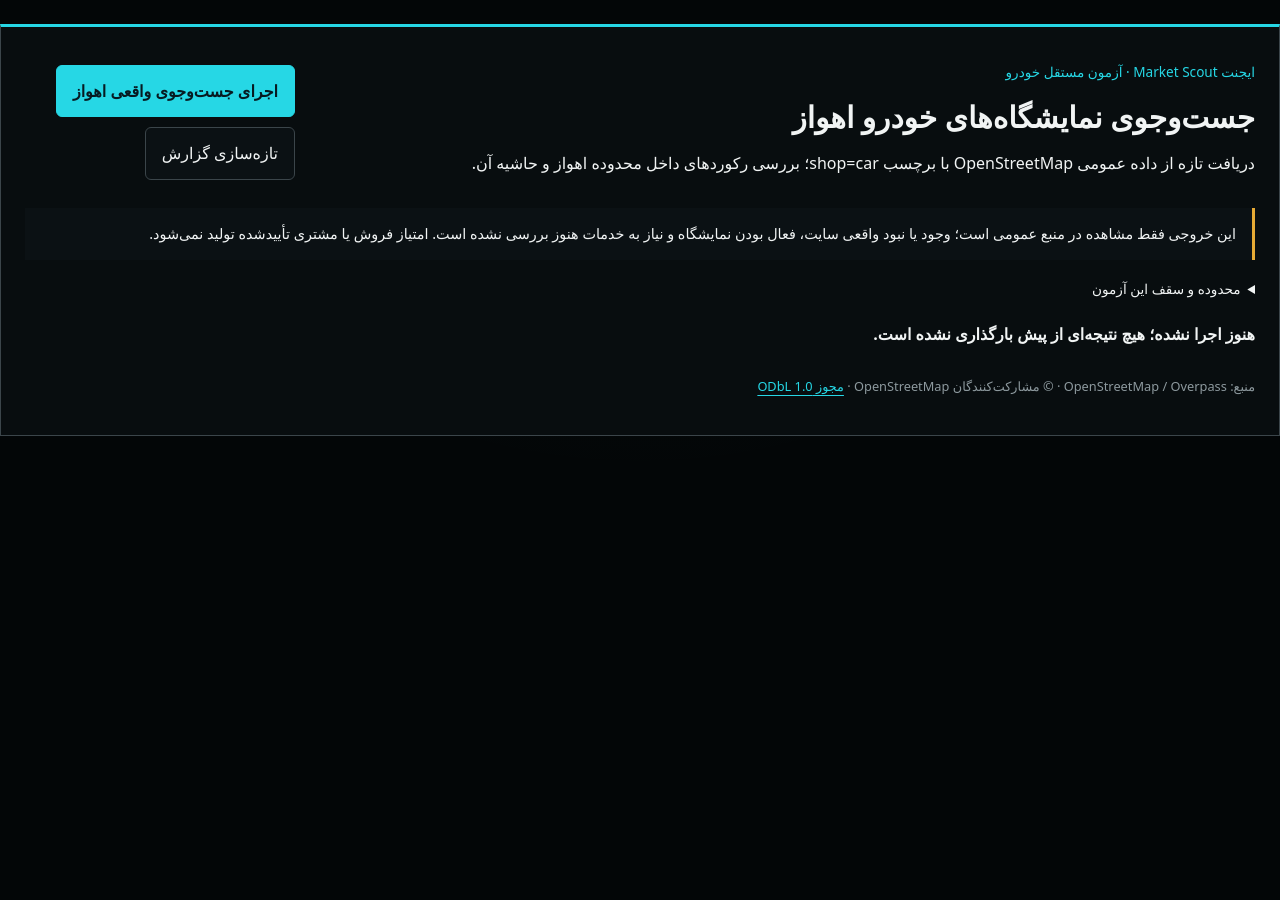
Test case: Ahvaz scout visible app control › only reads on mount and executes the fixed source task on an explicit click
Click the button "اجرای جست‌وجوی واقعی اهواز".
click(175, 91)  # box [56, 65, 295, 117]
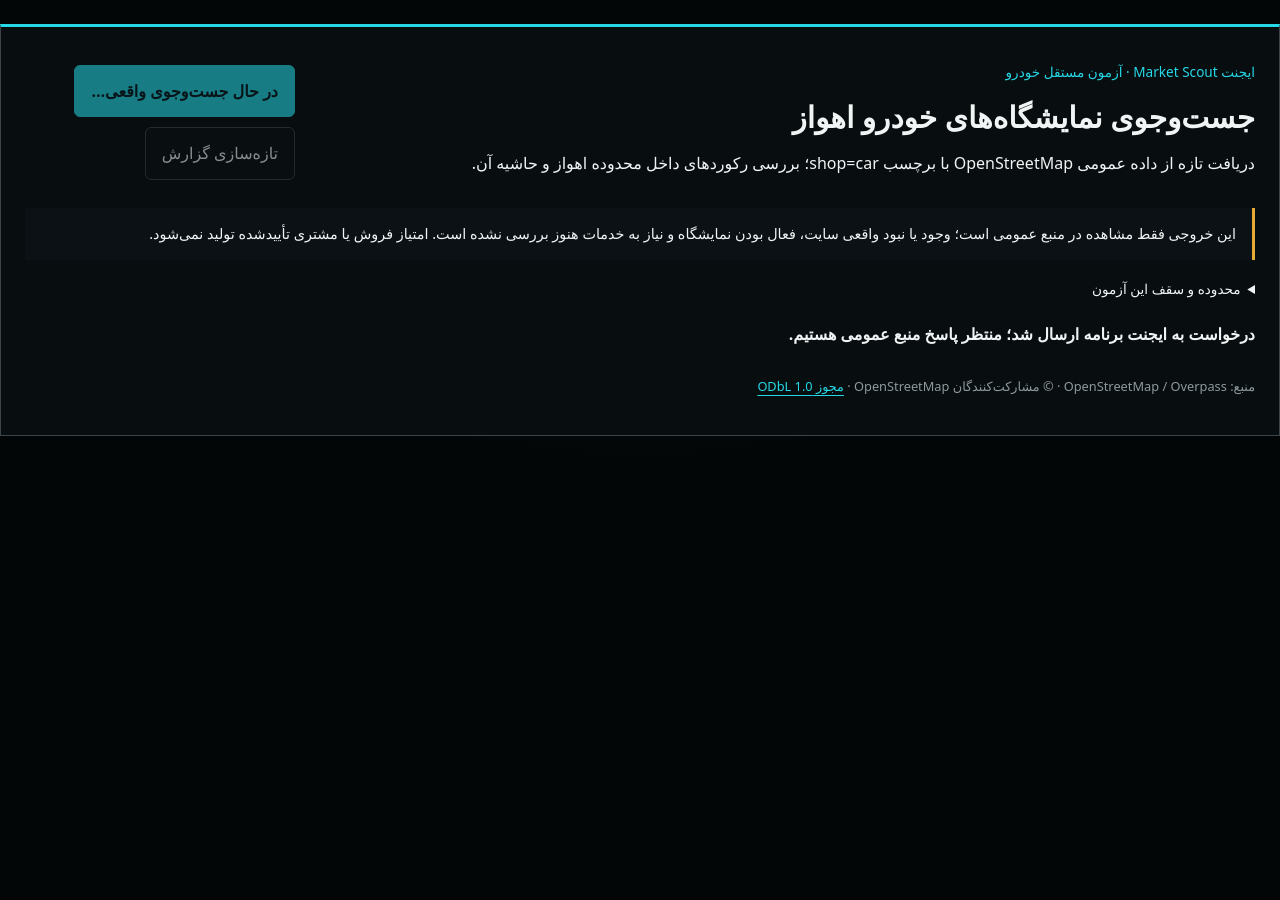
Click the button named "اجرای جست‌وجوی واقعی اهواز".
click(185, 91)  # box [74, 65, 295, 117]
(page scrolled)
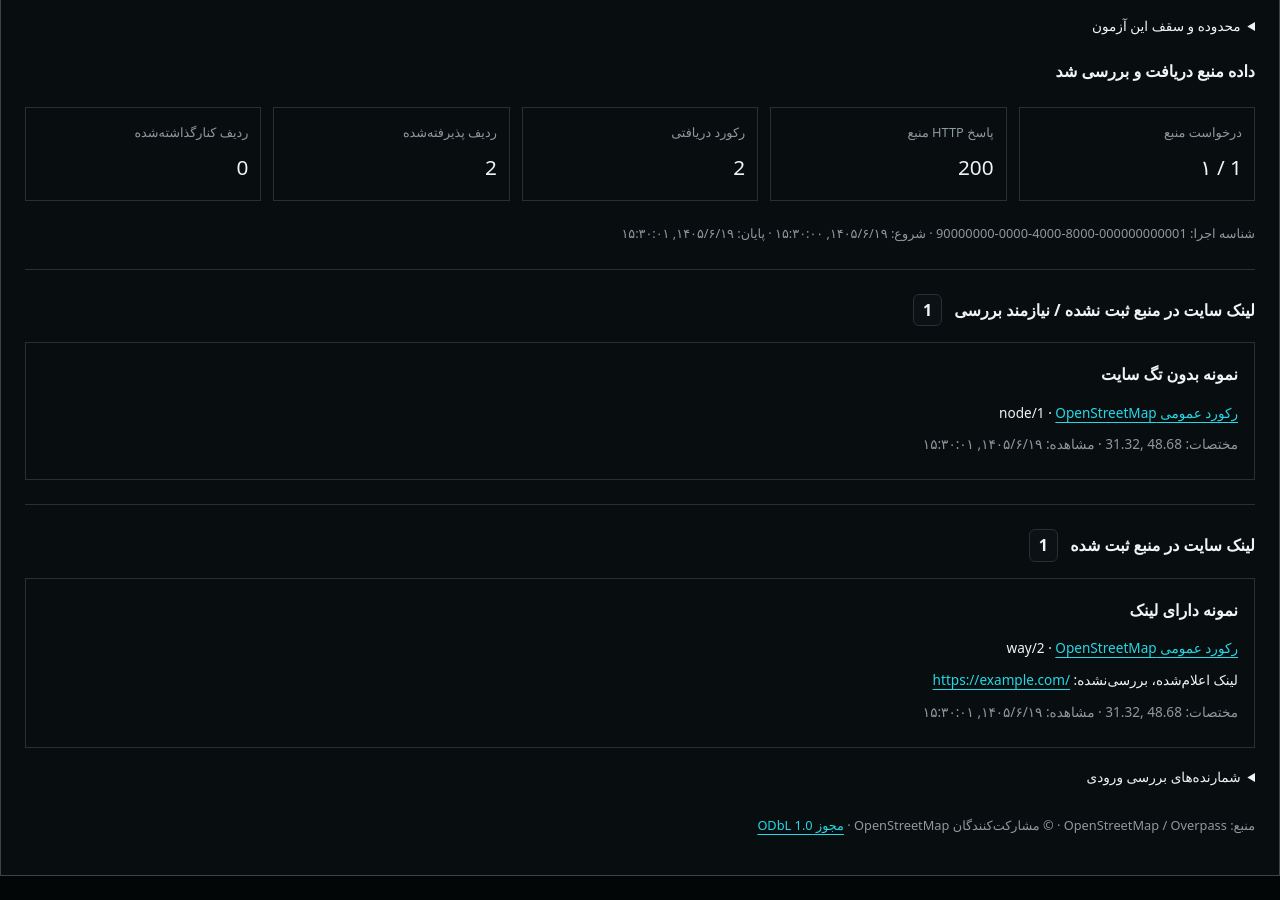
Check: the text "نمونه بدون تگ سایت" is shown, box [1101, 363, 1238, 385]
Check: the element "لینک سایت در منبع ثبت شده" shows "نمونه دارای لینک", box [1130, 599, 1238, 621]
